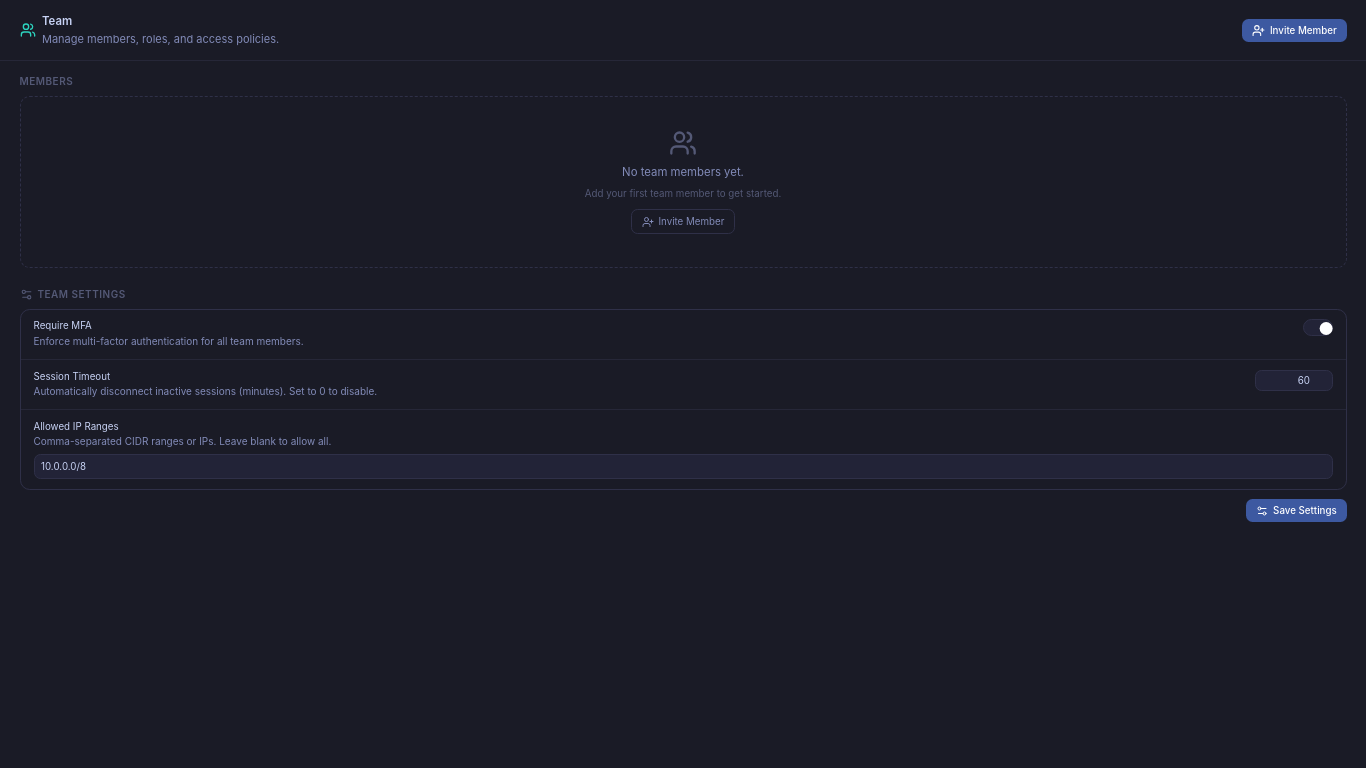
it: TeamPanel › shows an error toast when saving team settings fails
Check: the text "No team members yet." is shown, box [622, 164, 744, 180]
Click the button "Save Settings": (1296, 511) [1246, 499, 1346, 522]
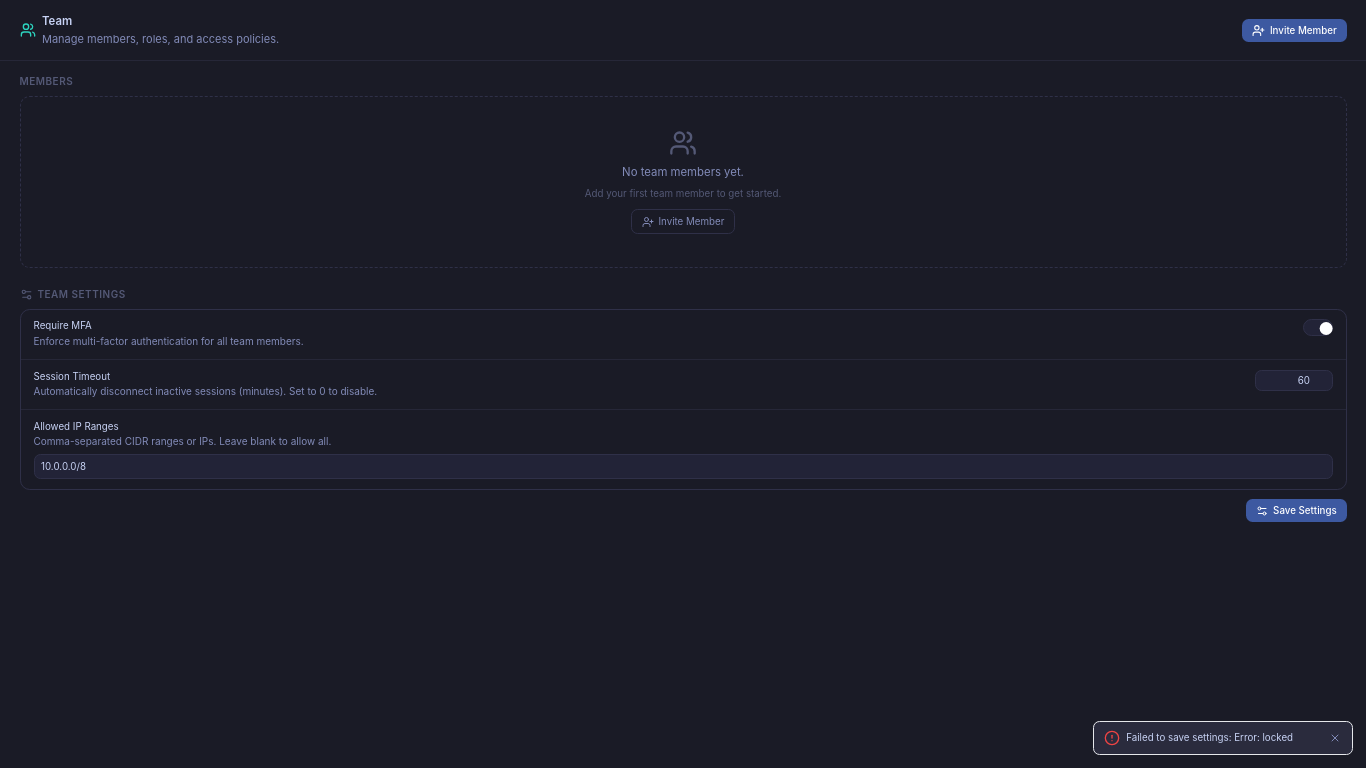
Check: the text "Failed to save settings: Error: locked" is shown, box [1126, 730, 1321, 746]
